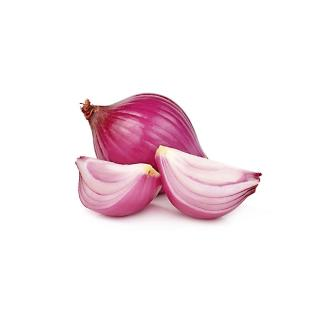Bawang Merah: (80, 93, 209, 171), (155, 145, 263, 221), (75, 156, 163, 218)
